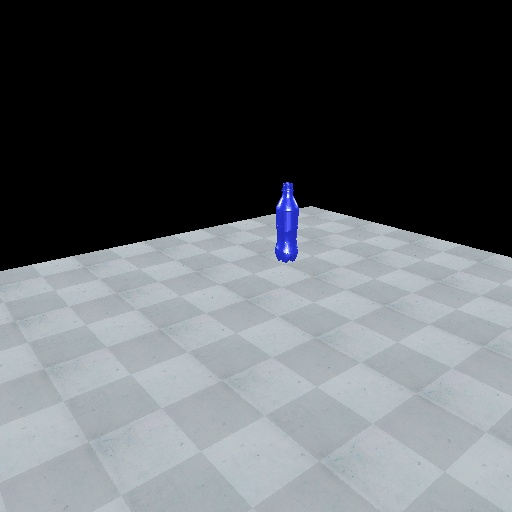bottle: (274, 177, 300, 265)
